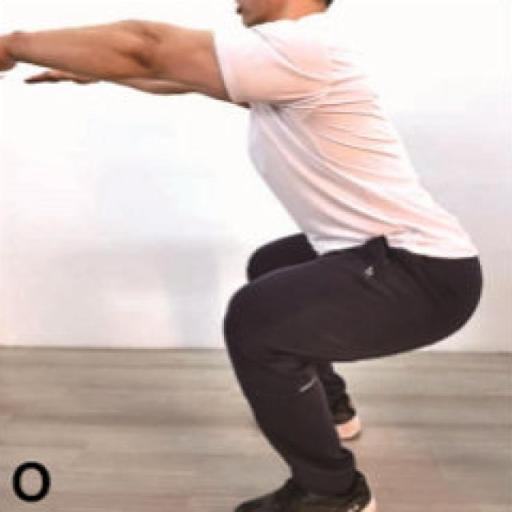Normal_BrenchPress: (0, 1, 485, 512)
